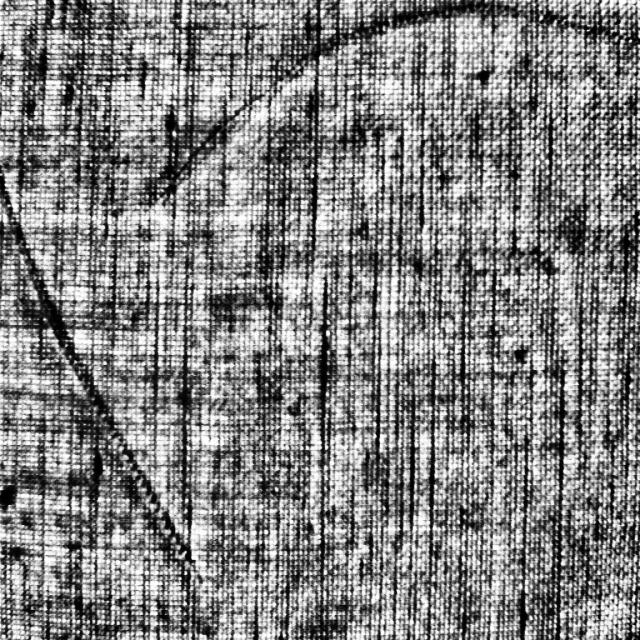Stitch: (123, 66, 302, 256), (83, 358, 214, 598)
